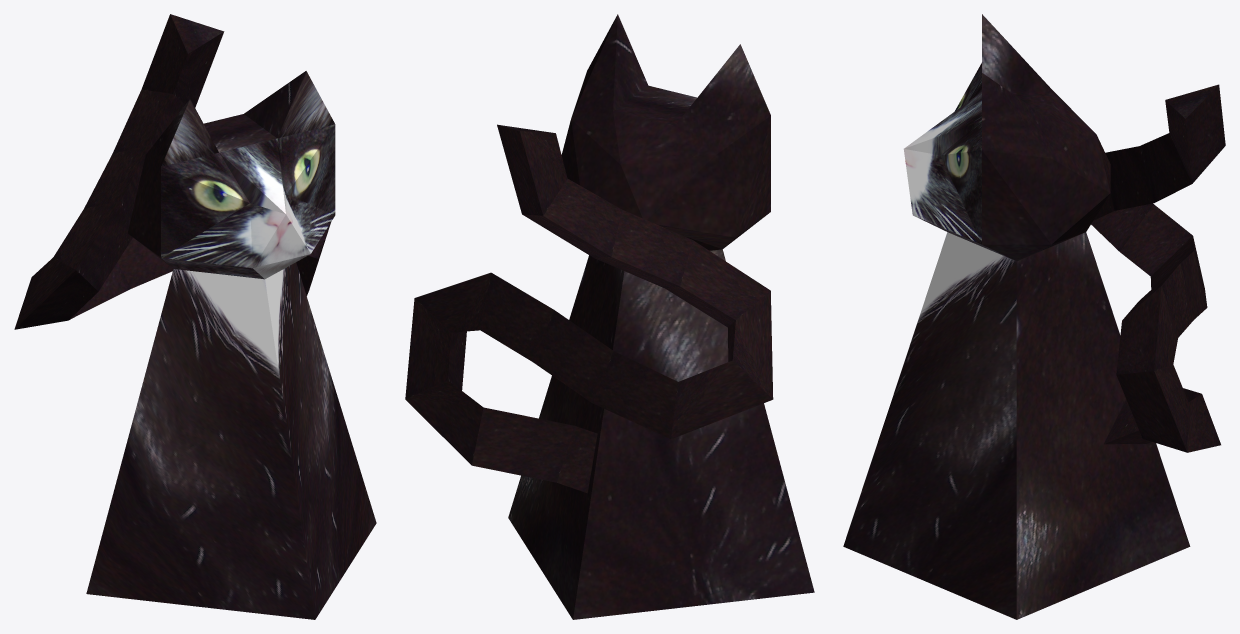
Rendered from Cat.gltf.
3 views of the same model, side by side, from view 1: azimuth 30°, elevation 25°; view 2: azimuth 150°, elevation 25°; view 3: azimuth 270°, elevation 25° (orthographic). The views are drawn at different scales.
Visible parts, largest first — view 1: Body, Head; view 2: Body, Head; view 3: Body, Head.
Boxes of the visible parts, <box> form: Body: <box>14,14,376,619</box>; Head: <box>127,71,335,279</box>; Body: <box>405,124,814,619</box>; Head: <box>561,14,770,250</box>; Body: <box>843,84,1225,619</box>; Head: <box>903,14,1110,261</box>.
Bounding box in the file's own units: 1.13 × 1.6 × 1.1.
Materials: 4 (4 with a texture image).
